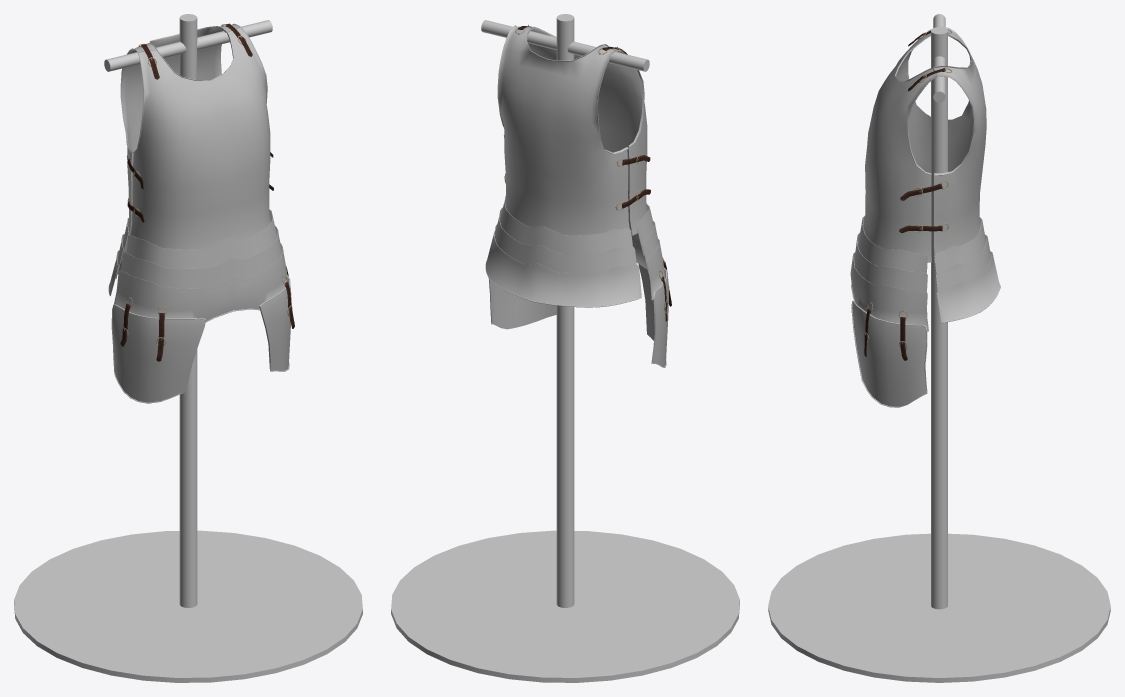
The model's file is All.fbx.
3 views of the same model, side by side, from view 1: azimuth 30°, elevation 25°; view 2: azimuth 150°, elevation 25°; view 3: azimuth 270°, elevation 25° (orthographic). The views are drawn at different scales.
Parts seen in each view (by area): view 1: Armor_Low, Stand; view 2: Stand, Armor_Low; view 3: Stand, Armor_Low.
Boxes of the visible parts, box(x1,y1,x2,y2) form: Armor_Low: box(108, 23, 294, 403); Stand: box(14, 14, 362, 682); Stand: box(391, 14, 739, 682); Armor_Low: box(485, 24, 671, 367); Stand: box(768, 14, 1110, 682); Armor_Low: box(850, 26, 1000, 407).
Size of the model in its own units: 93.9 by 175 by 93.9.
